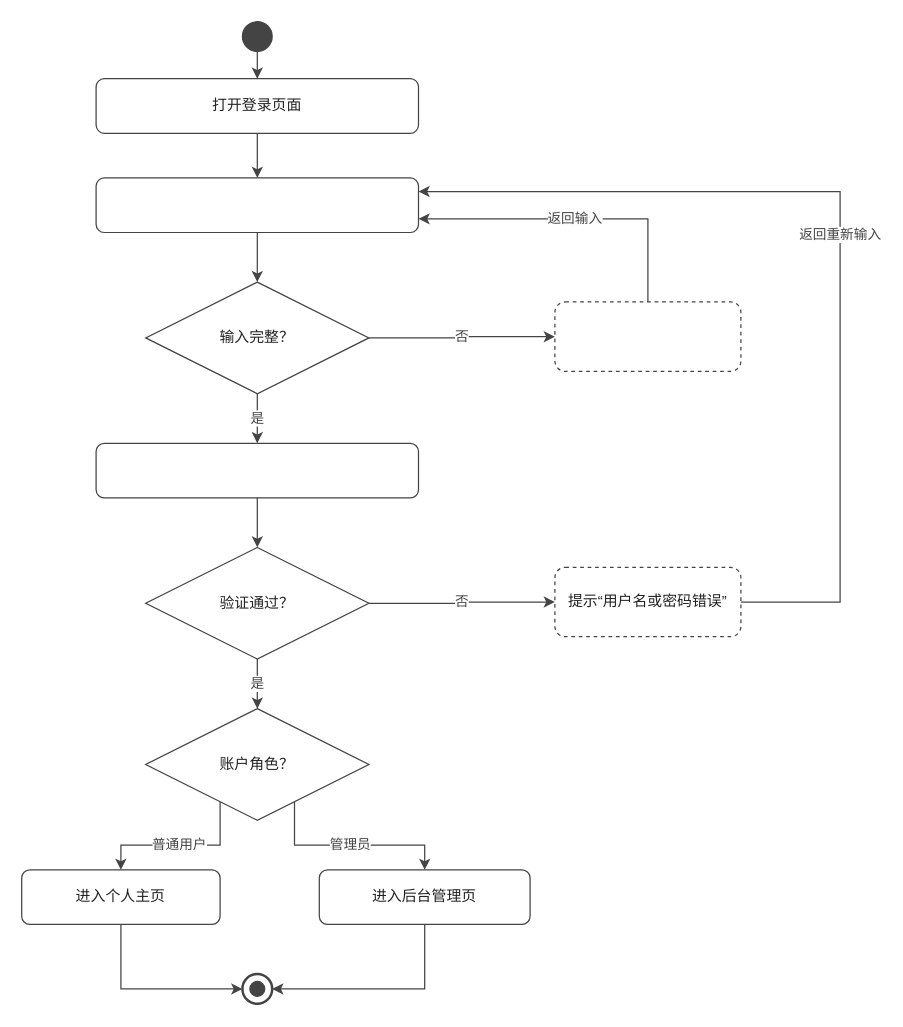
Some shapes in this 903 by 1027 pixel diagram are drawn without their labels. The shapes that lost their labels are listed below. From the top down, each one's centre as x and y in pixels, then its label:
point (256, 204): 输入用户名和密码
point (647, 336): 提示补全输入
point (256, 470): 系统验证用户名和密码
